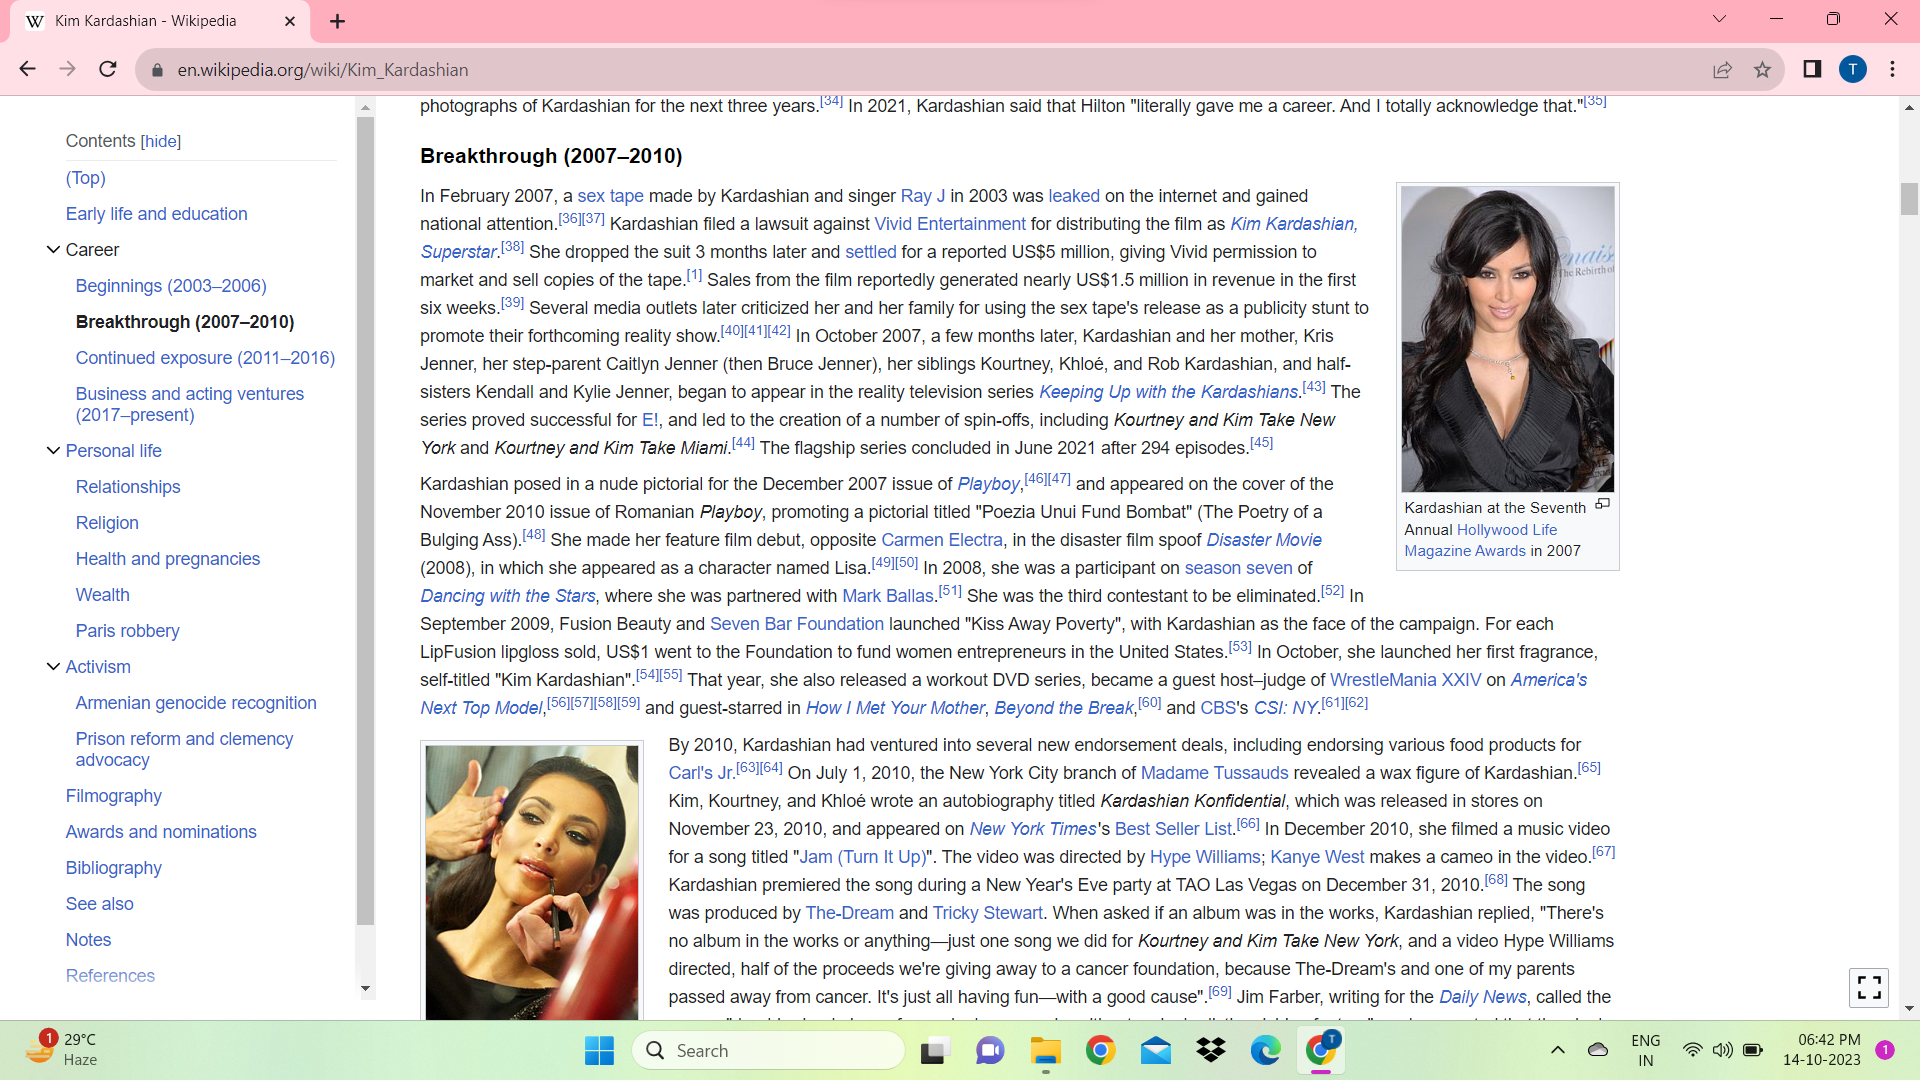Image: (1383, 179, 1629, 496), (411, 733, 645, 1021)
Paragraph: (410, 183, 1605, 720), (662, 729, 1615, 1025), (58, 720, 305, 770), (67, 384, 323, 427), (404, 140, 702, 177), (61, 340, 340, 373), (65, 686, 319, 716), (78, 272, 268, 305), (67, 306, 305, 332), (45, 543, 272, 567), (61, 824, 264, 851), (57, 203, 258, 228), (57, 783, 187, 820), (50, 851, 179, 880), (51, 128, 196, 153), (67, 615, 187, 644), (58, 927, 146, 964), (58, 475, 196, 496), (54, 886, 145, 915), (62, 438, 157, 464), (67, 576, 142, 607), (61, 506, 146, 533), (61, 651, 142, 675), (69, 237, 123, 261), (65, 162, 105, 186)
